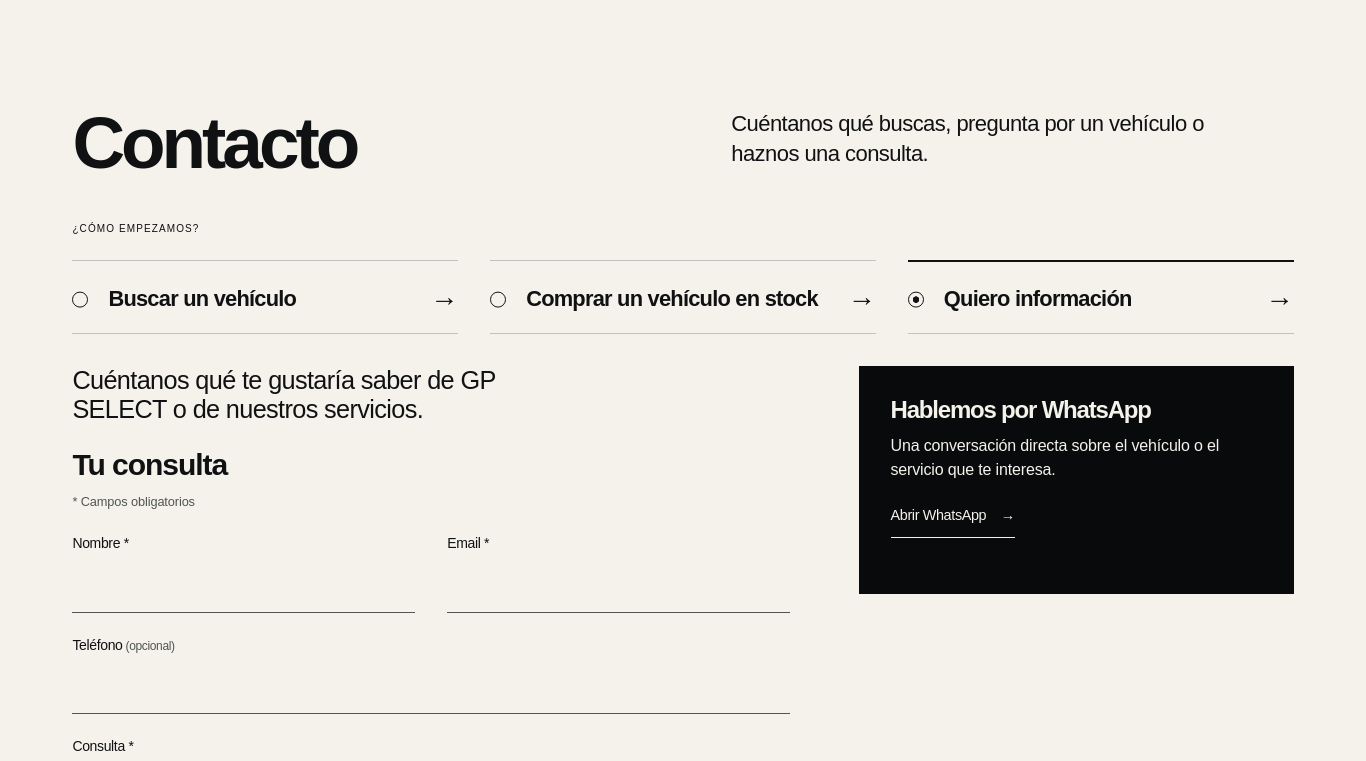
it: contact paths › requires ten characters only in information and preserves values on rate limiting
This screenshot has width=1366, height=761.
Type "Alex Smith" into the field labelled "Nombre *".
click(244, 587); type("Alex Smith")  # box [72, 561, 415, 613]
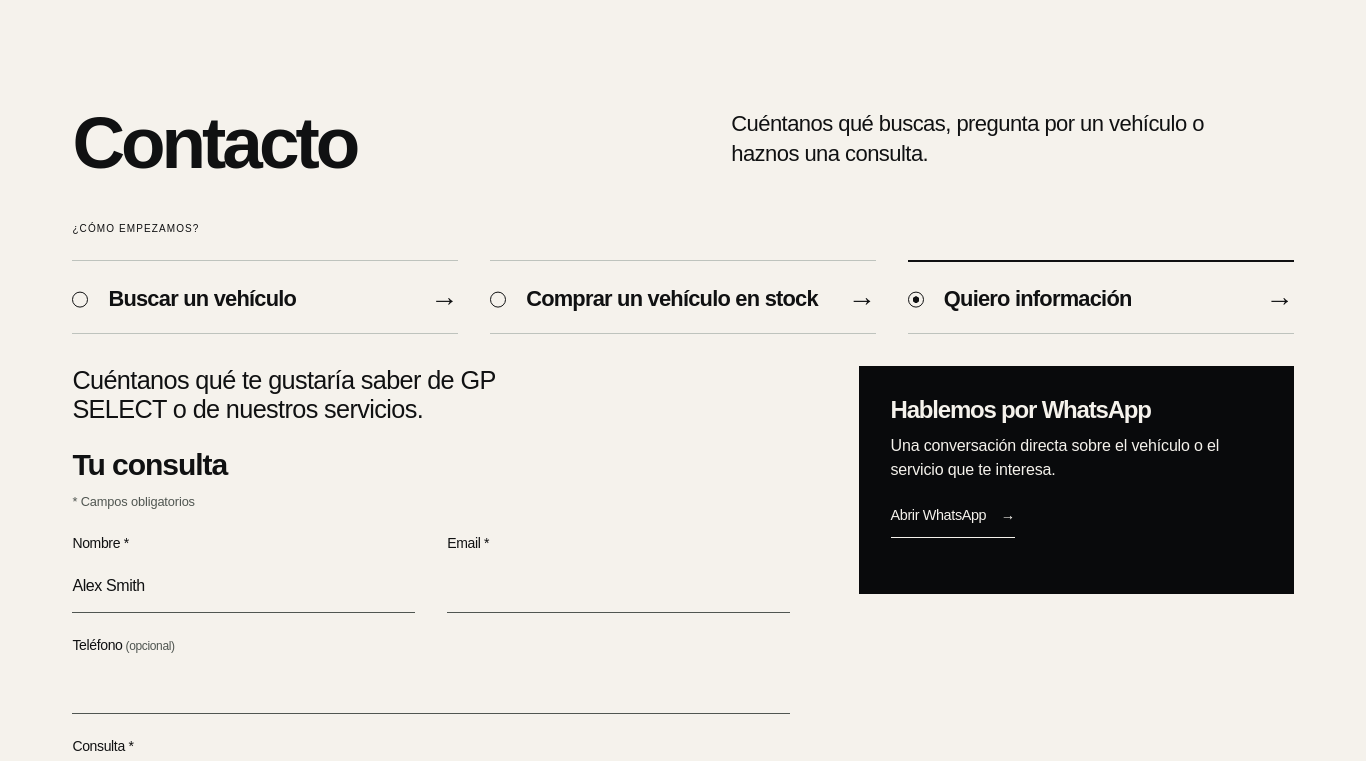
Type "alex@example.test" into the field labelled "Email *".
click(619, 587); type("alex@example.test")  # box [447, 561, 790, 613]
(page scrolled)
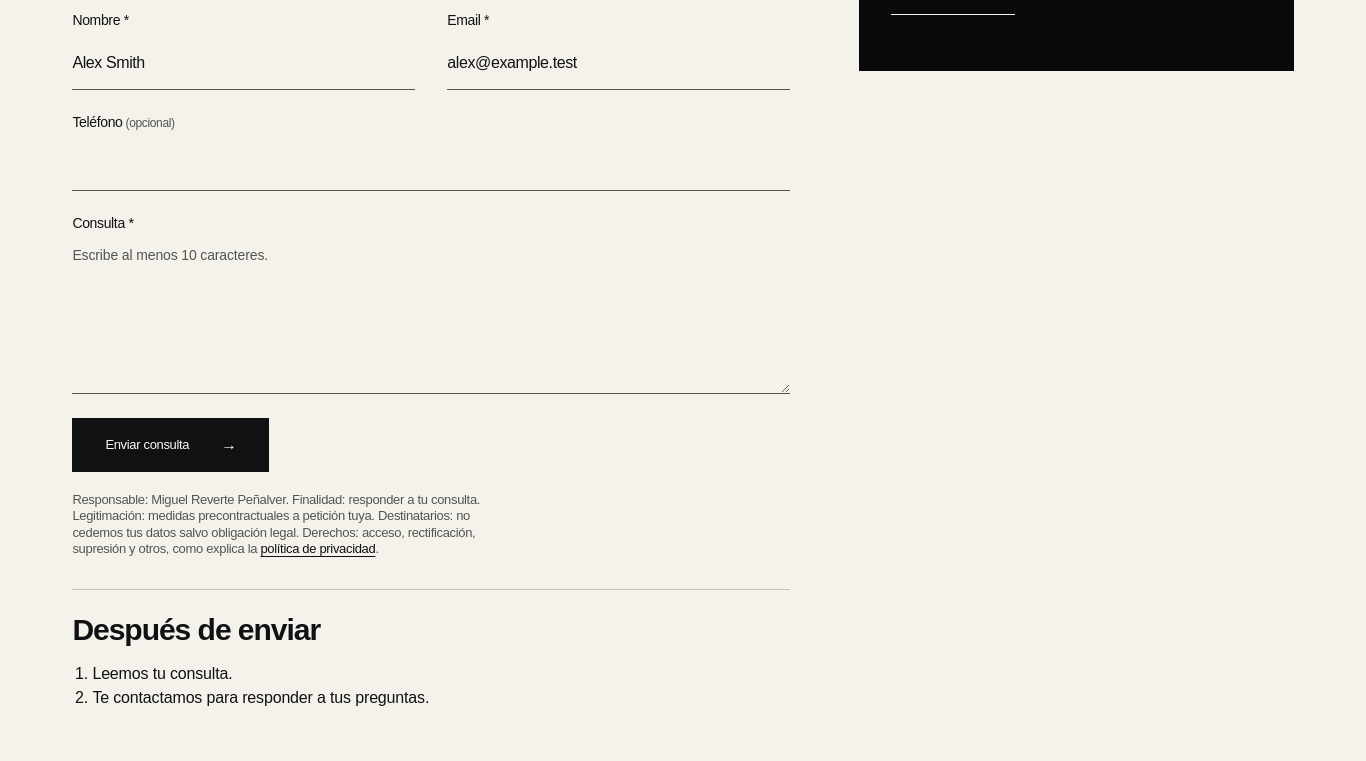
Type "123456789" into the text box labelled "Consulta *".
click(431, 330); type("123456789")  # box [72, 266, 790, 394]
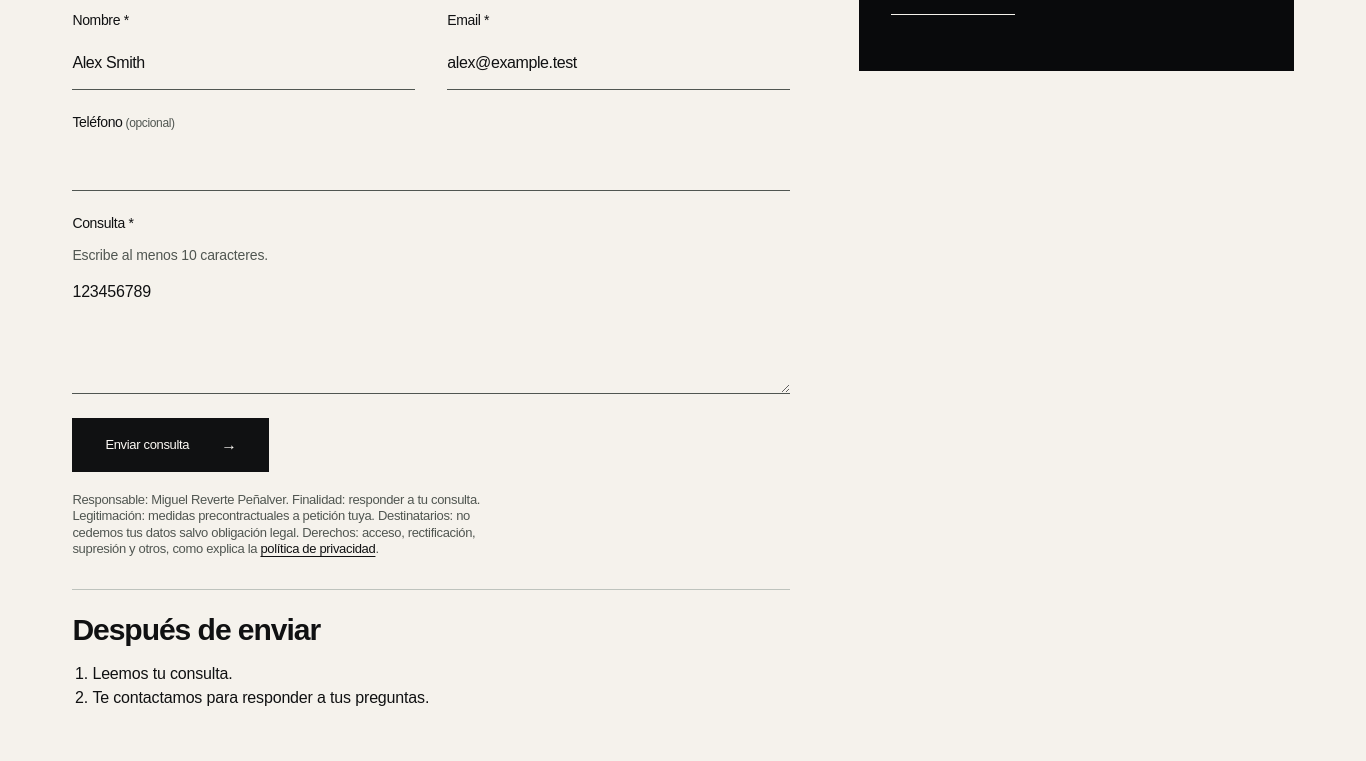
Click the button "Enviar consulta →".
click(171, 445)  # box [72, 418, 270, 472]
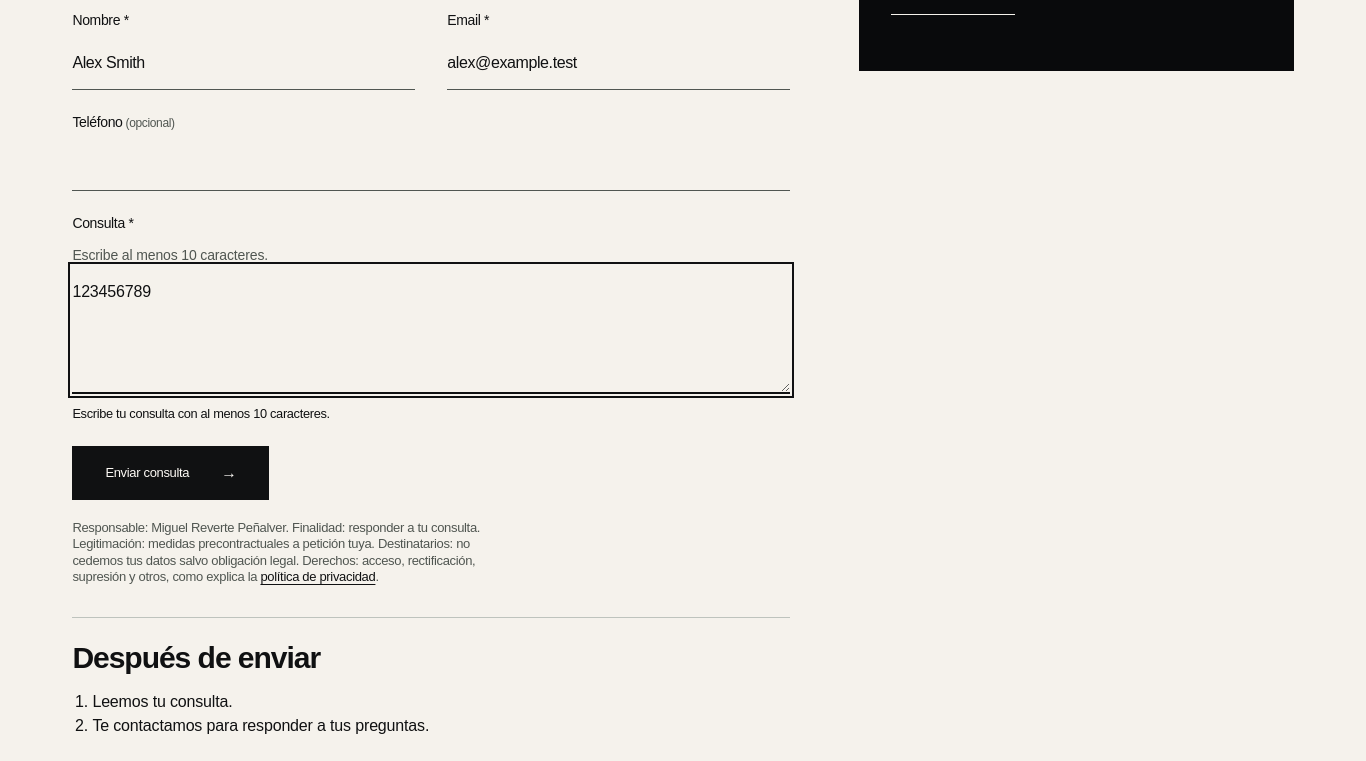
Replace the text in the text box labelled "Consulta *" with "1234567890" at (431, 330), box [72, 266, 790, 394]
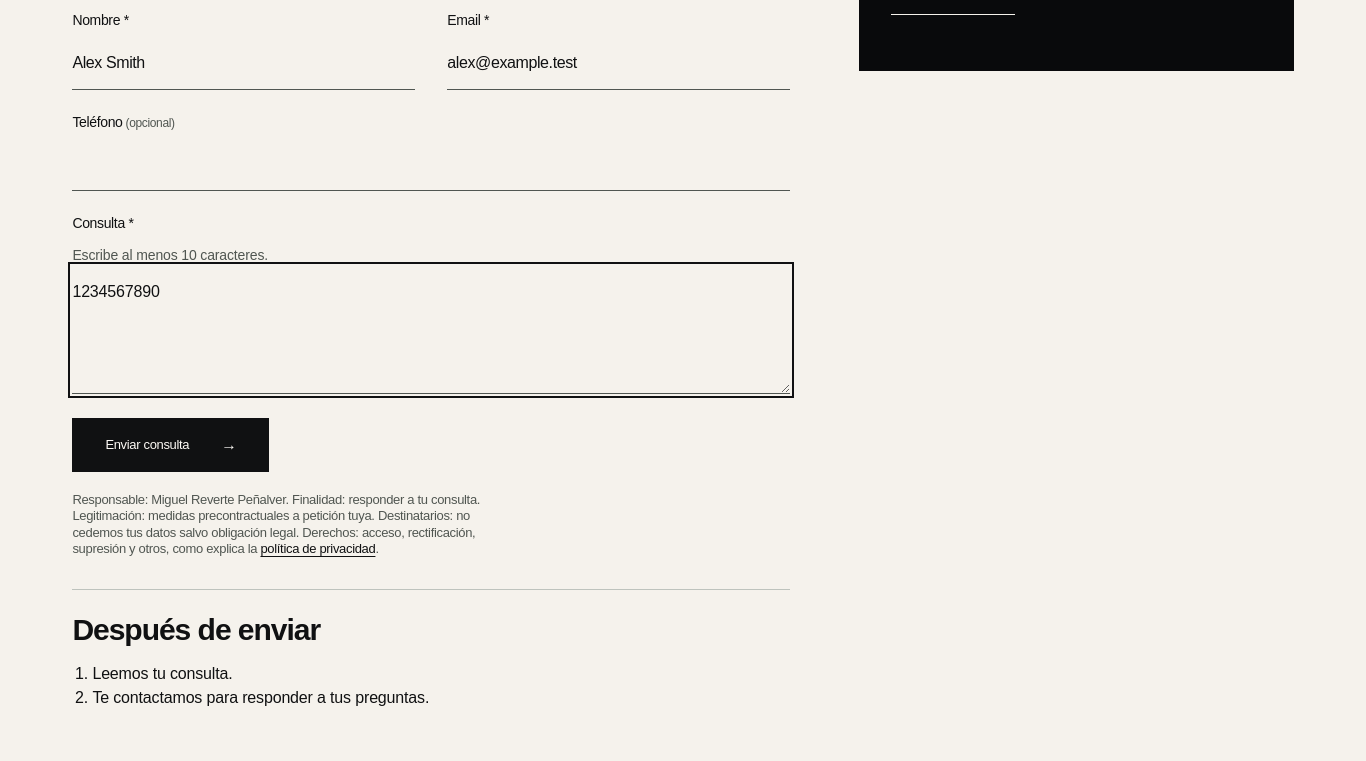
Click the button "Enviar consulta →".
click(171, 445)  # box [72, 418, 270, 472]
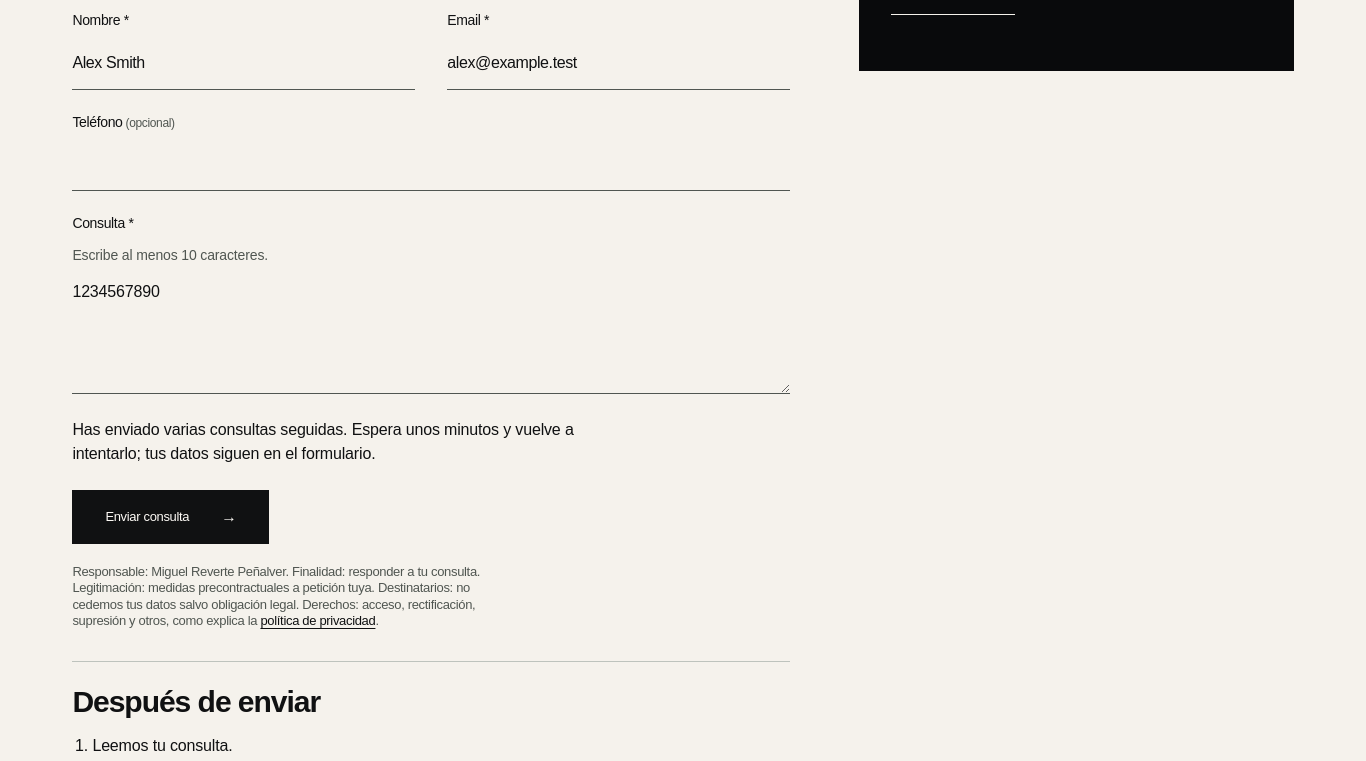
Expected: the message is shown, [72, 418, 624, 466]
Expected: the message shows "Has enviado varias consultas seguidas. Espera unos minutos y vuelve a intentarlo; tus datos siguen en el formulario.", [72, 421, 574, 462]
